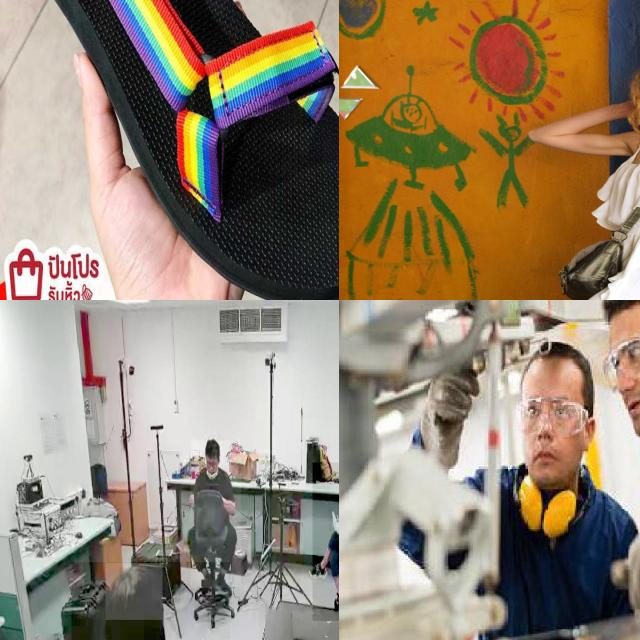Ear-protection: (506, 462, 596, 538)
Sandals: (0, 0, 339, 300)
glasses: (507, 391, 591, 438), (602, 321, 640, 392)
head_nohelmet: (514, 332, 603, 487), (599, 300, 640, 445), (105, 563, 163, 621), (203, 438, 220, 454)
person: (405, 329, 628, 640), (585, 300, 640, 620), (71, 562, 230, 640), (190, 440, 242, 588), (312, 462, 339, 621)
shoes: (212, 569, 234, 598), (308, 558, 329, 582), (331, 582, 339, 619)
